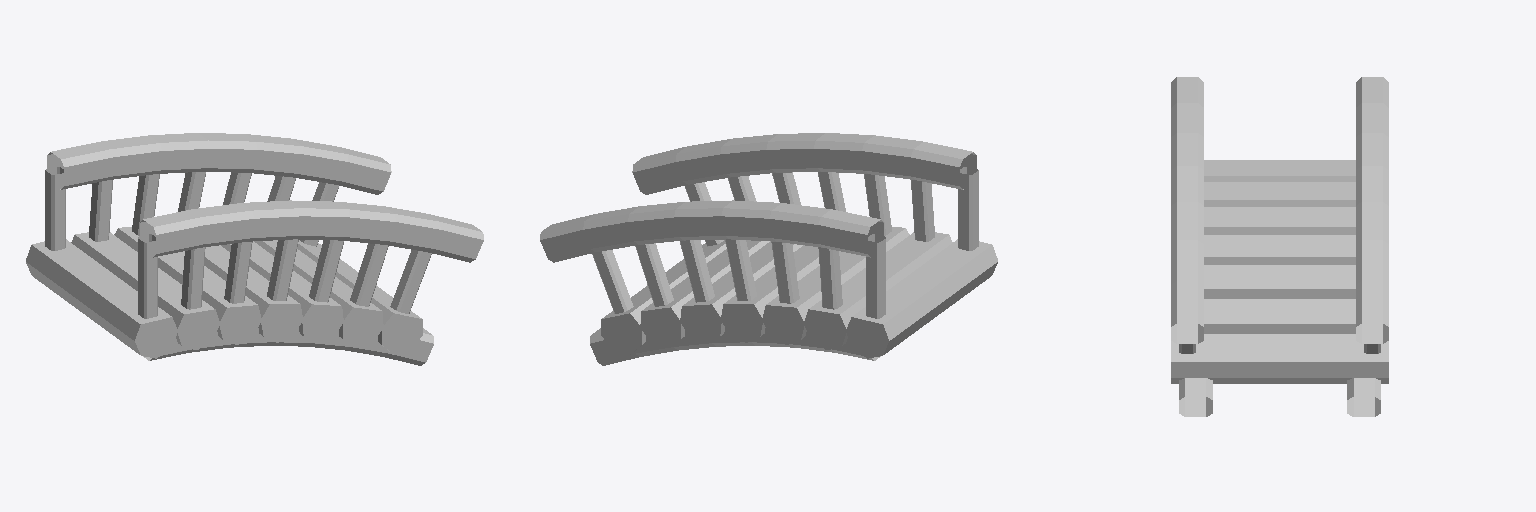
The model's file is Track_Bridge_Incline_Gentle_Flat_Floating.obj.
3 renders of one model, left to right at view 1: azimuth 30°, elevation 25°; view 2: azimuth 150°, elevation 25°; view 3: azimuth 270°, elevation 25°, orthographic.
Parts seen in each view (by area): view 1: Bridge_Rail, Bridge_Rail_Support, Log_Plank_Top, Log_Plank_End, Log_Plank_Bark, Bridge_Support_Beam; view 2: Bridge_Rail, Bridge_Rail_Support, Log_Plank_Top, Log_Plank_End, Log_Plank_Bark, Bridge_Support_Beam; view 3: Log_Plank_Top, Bridge_Rail, Log_Plank_Bark, Bridge_Support_Beam.
Part boxes in pixels (x1,y1,x2,y2): Bridge_Rail: (47,133,483,262); Bridge_Rail_Support: (45,167,431,318); Log_Plank_Top: (32,227,421,323); Log_Plank_End: (135,304,422,358); Log_Plank_Bark: (26,228,393,354); Bridge_Support_Beam: (143,328,433,365); Bridge_Rail: (540,133,976,262); Bridge_Rail_Support: (592,167,978,318); Log_Plank_Top: (602,227,991,323); Log_Plank_End: (601,304,888,358); Log_Plank_Bark: (630,228,997,354); Bridge_Support_Beam: (590,328,880,365); Log_Plank_Top: (1171,160,1388,361); Bridge_Rail: (1171,77,1388,343); Log_Plank_Bark: (1171,176,1388,383); Bridge_Support_Beam: (1179,378,1380,416).
Bounding box in the file's own units: 2.42 × 1.37 × 1.3.